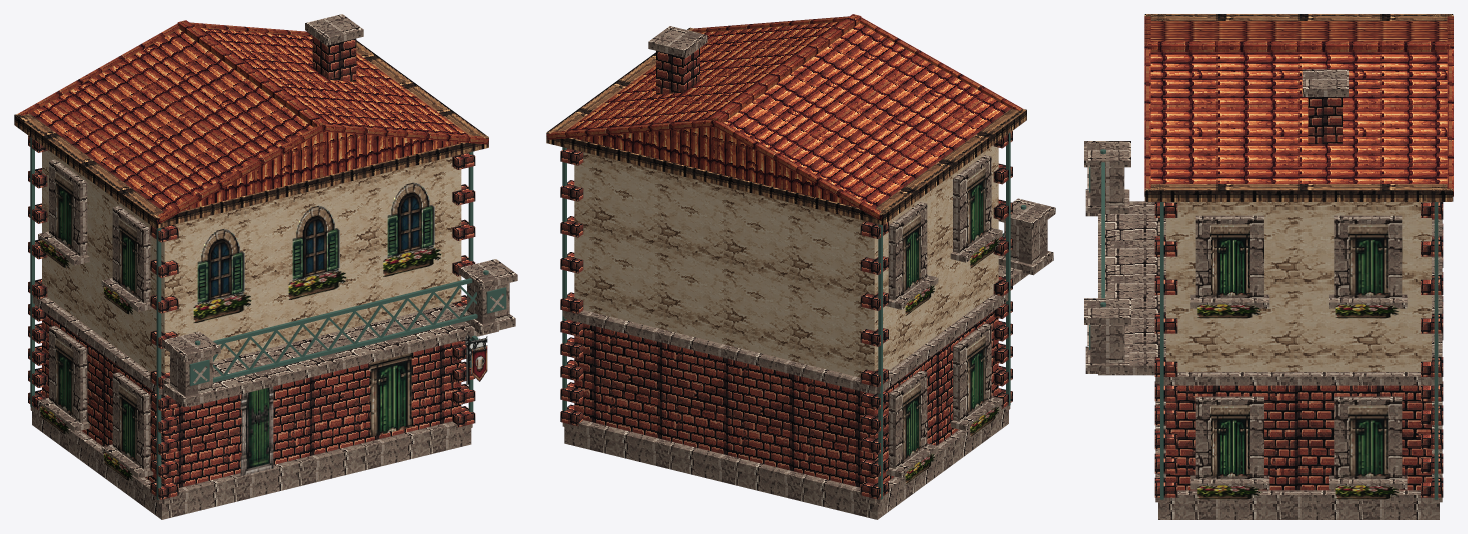
File: palazzo.glb
3 renders of one model, left to right at view 1: azimuth 30°, elevation 25°; view 2: azimuth 150°, elevation 25°; view 3: azimuth 270°, elevation 25°, orthographic. The views are drawn at different scales.
Visible parts, largest first — view 1: palazzo_p9_roof, palazzo_p9_stone, palazzo_p9_plaster, palazzo_p9_brick, palazzo_p9_iron, palazzo_p9_wood, palazzo_p9_window_arch, palazzo_p9_window_shutter, palazzo_p9_flowerbox, palazzo_p9_door_green, palazzo_p9_sign_banner; view 2: palazzo_p9_plaster, palazzo_p9_roof, palazzo_p9_brick, palazzo_p9_stone, palazzo_p9_wood, palazzo_p9_window_shutter, palazzo_p9_iron, palazzo_p9_flowerbox; view 3: palazzo_p9_roof, palazzo_p9_stone, palazzo_p9_plaster, palazzo_p9_brick, palazzo_p9_window_shutter, palazzo_p9_wood, palazzo_p9_flowerbox, palazzo_p9_iron.
Boxes of the visible parts, x1,y1,x2,y2 form: palazzo_p9_roof: (18, 20, 488, 224); palazzo_p9_stone: (30, 14, 517, 519); palazzo_p9_plaster: (42, 149, 461, 373); palazzo_p9_brick: (28, 36, 475, 499); palazzo_p9_iron: (30, 137, 506, 499); palazzo_p9_wood: (14, 40, 488, 228); palazzo_p9_window_arch: (197, 182, 434, 303); palazzo_p9_window_shutter: (55, 170, 411, 461); palazzo_p9_flowerbox: (40, 237, 462, 480); palazzo_p9_door_green: (240, 386, 273, 475); palazzo_p9_sign_banner: (465, 334, 487, 384); palazzo_p9_plaster: (574, 145, 998, 377); palazzo_p9_roof: (546, 14, 1022, 220); palazzo_p9_brick: (560, 48, 1012, 499); palazzo_p9_stone: (562, 26, 1055, 519); palazzo_p9_wood: (546, 27, 1026, 225); palazzo_p9_window_shutter: (902, 166, 985, 460); palazzo_p9_iron: (562, 132, 1026, 499); palazzo_p9_flowerbox: (905, 236, 999, 484); palazzo_p9_roof: (1144, 15, 1453, 196); palazzo_p9_stone: (1084, 69, 1442, 519); palazzo_p9_plaster: (1166, 202, 1431, 371); palazzo_p9_brick: (1154, 97, 1443, 497); palazzo_p9_window_shutter: (1210, 224, 1388, 476); palazzo_p9_wood: (1144, 14, 1453, 201); palazzo_p9_flowerbox: (1197, 303, 1399, 499); palazzo_p9_iron: (1089, 149, 1438, 499).
Bounding box in the file's own units: 7.88 × 8.48 × 6.95.
Materials: 12 (10 with a texture image).
